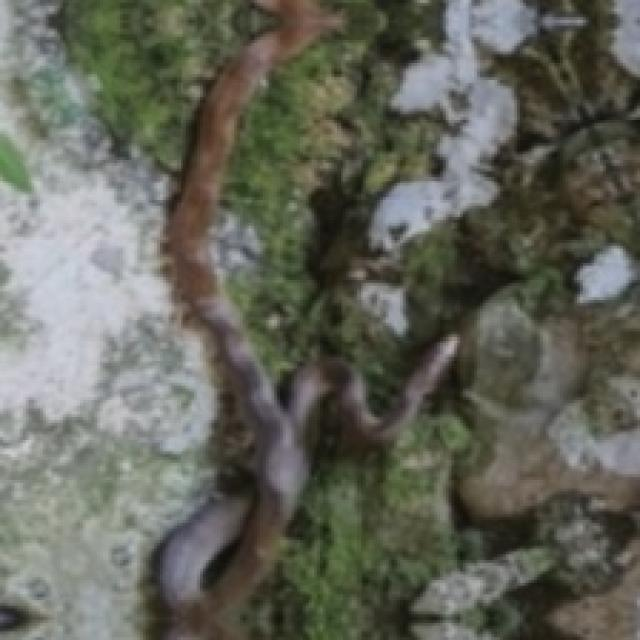reddish rat snake: (154, 0, 457, 637)
